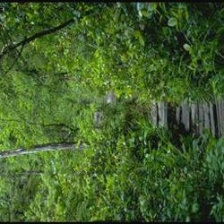neutral: (5, 4, 220, 217)
